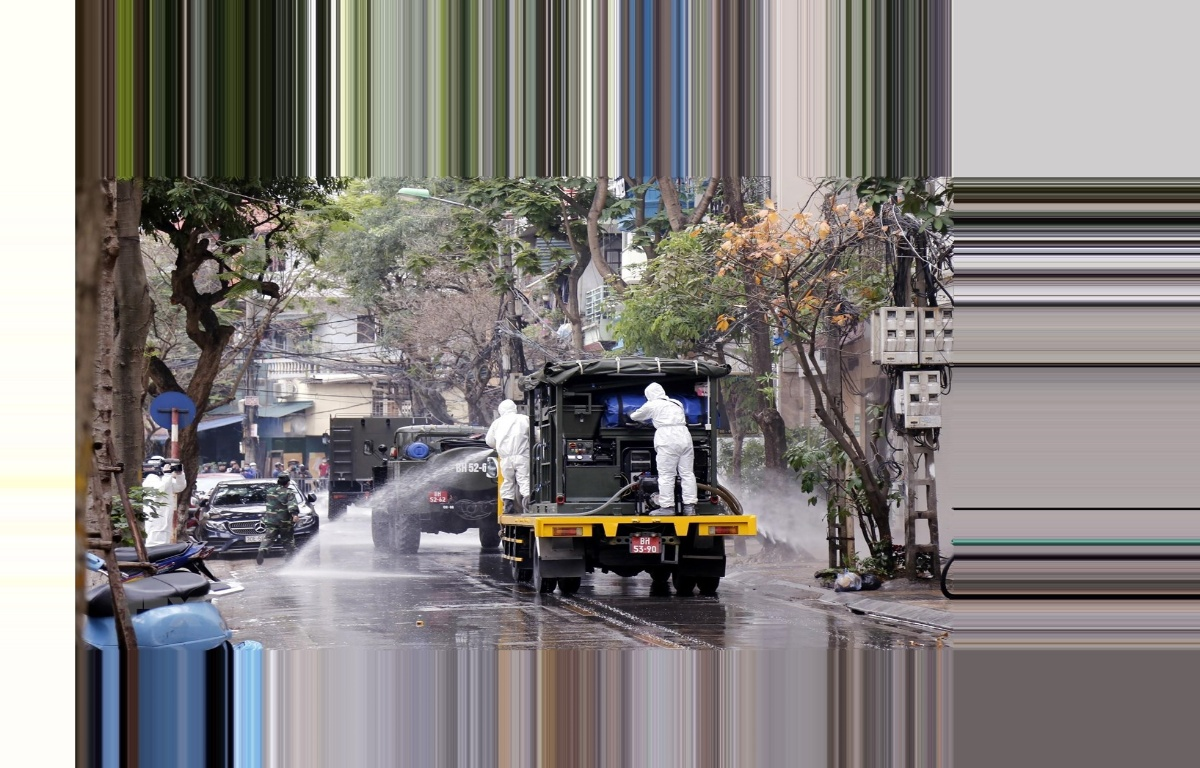plate: (628, 533, 664, 555), (425, 484, 452, 509), (245, 529, 278, 546)
